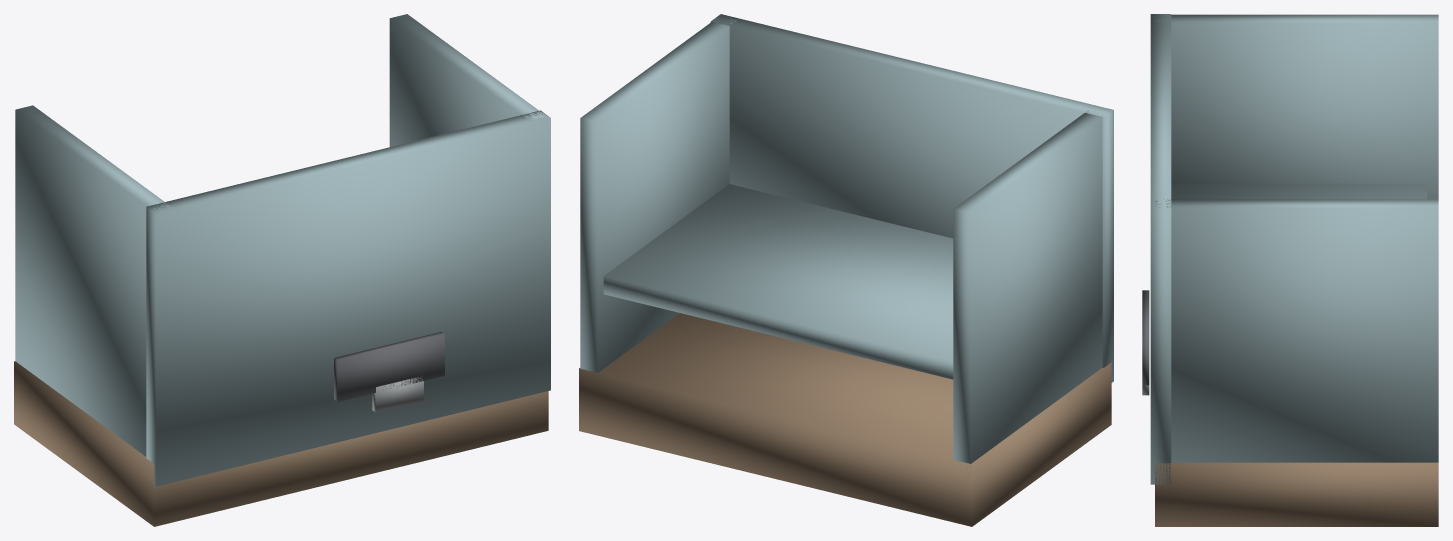
Rendered from pie_display__weathered.glb.
3 views of the same model, side by side, from view 1: azimuth 30°, elevation 25°; view 2: azimuth 150°, elevation 25°; view 3: azimuth 270°, elevation 25° (orthographic).
Visible parts, largest first — view 1: world; view 2: world; view 3: world.
Boxes of the visible parts, x1,y1,x2,y2 form: world: (14, 14, 550, 526); world: (579, 14, 1113, 526); world: (1142, 14, 1438, 526).
Size of the model in its own units: 0.78 by 0.594 by 0.5016.
